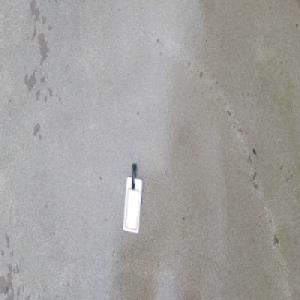LuggageTag: (122, 162, 142, 235)
